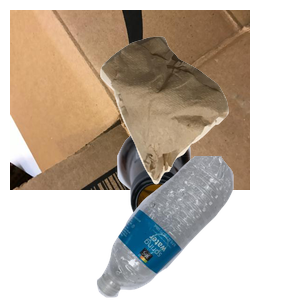cardboard: (10, 10, 250, 190)
glass: (115, 120, 300, 300)
plastic: (94, 156, 300, 300)
trash: (98, 34, 300, 211)
